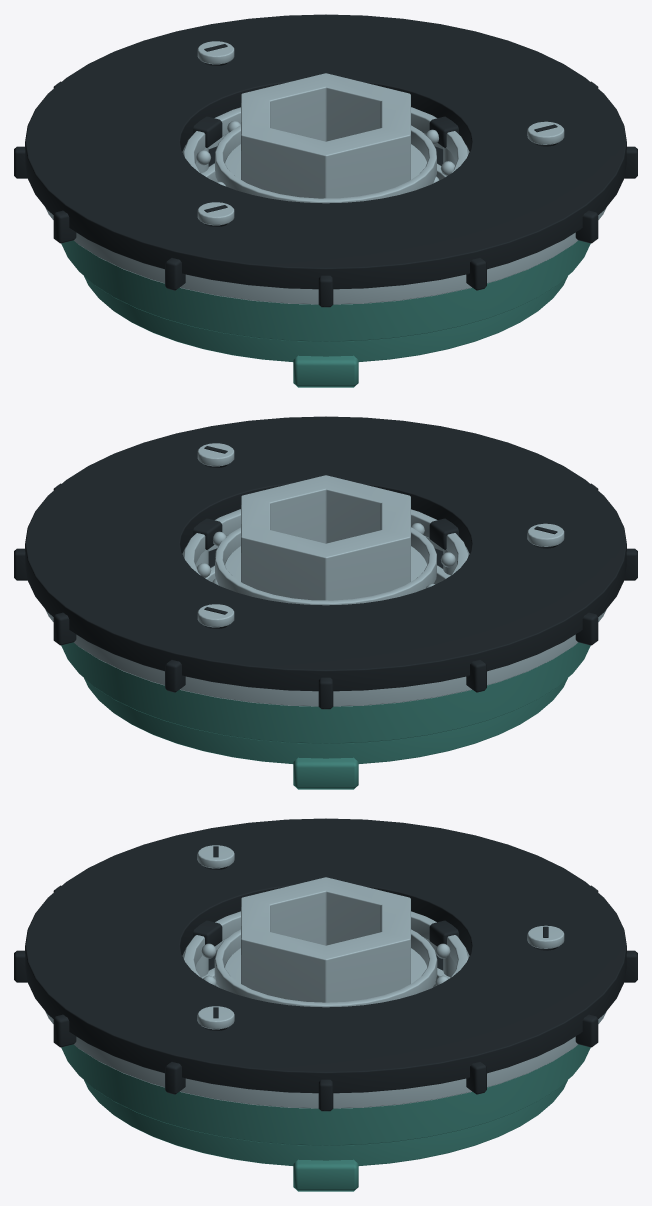
The picture shows the model from 3 angles, top to bottom: view 1: azimuth 30°, elevation 25°; view 2: azimuth 150°, elevation 25°; view 3: azimuth 270°, elevation 25°; orthographic projection.
Parts seen in each view (by area): view 1: Export_C03_stationary_housing__Launcher_Graphite_POM__fixed_, Export_C03_coupler_rotor__Launcher_Brushed_Steel__rotating_s, Export_C03_stationary_housing__Performance_Teal_Anodized__fi, Export_C03_stationary_housing__Launcher_Brushed_Steel__fixed, Export_C03_coupler_rotor__Performance_Teal_Anodized__rotatin, Export_C03_release_jaw_1__Performance_Teal_Anodized__release; view 2: Export_C03_stationary_housing__Launcher_Graphite_POM__fixed_, Export_C03_coupler_rotor__Launcher_Brushed_Steel__rotating_s, Export_C03_stationary_housing__Performance_Teal_Anodized__fi, Export_C03_stationary_housing__Launcher_Brushed_Steel__fixed, Export_C03_coupler_rotor__Performance_Teal_Anodized__rotatin, Export_C03_release_jaw_2__Performance_Teal_Anodized__release; view 3: Export_C03_stationary_housing__Launcher_Graphite_POM__fixed_, Export_C03_coupler_rotor__Launcher_Brushed_Steel__rotating_s, Export_C03_stationary_housing__Performance_Teal_Anodized__fi, Export_C03_stationary_housing__Launcher_Brushed_Steel__fixed, Export_C03_coupler_rotor__Performance_Teal_Anodized__rotatin, Export_C03_release_jaw_0__Performance_Teal_Anodized__release.
Boxes of the visible parts, x1,y1,x2,y2 form: Export_C03_stationary_housing__Launcher_Graphite_POM__fixed_: [14, 14, 637, 307]; Export_C03_coupler_rotor__Launcher_Brushed_Steel__rotating_s: [224, 73, 427, 198]; Export_C03_stationary_housing__Performance_Teal_Anodized__fi: [61, 240, 590, 341]; Export_C03_stationary_housing__Launcher_Brushed_Steel__fixed: [45, 41, 606, 304]; Export_C03_coupler_rotor__Performance_Teal_Anodized__rotatin: [84, 276, 567, 361]; Export_C03_release_jaw_1__Performance_Teal_Anodized__release: [293, 355, 358, 387]; Export_C03_stationary_housing__Launcher_Graphite_POM__fixed_: [14, 416, 637, 709]; Export_C03_coupler_rotor__Launcher_Brushed_Steel__rotating_s: [224, 475, 427, 600]; Export_C03_stationary_housing__Performance_Teal_Anodized__fi: [61, 642, 590, 743]; Export_C03_stationary_housing__Launcher_Brushed_Steel__fixed: [45, 443, 606, 706]; Export_C03_coupler_rotor__Performance_Teal_Anodized__rotatin: [84, 678, 567, 763]; Export_C03_release_jaw_2__Performance_Teal_Anodized__release: [293, 757, 358, 789]; Export_C03_stationary_housing__Launcher_Graphite_POM__fixed_: [14, 818, 637, 1111]; Export_C03_coupler_rotor__Launcher_Brushed_Steel__rotating_s: [224, 877, 427, 1002]; Export_C03_stationary_housing__Performance_Teal_Anodized__fi: [61, 1044, 590, 1145]; Export_C03_stationary_housing__Launcher_Brushed_Steel__fixed: [45, 845, 606, 1108]; Export_C03_coupler_rotor__Performance_Teal_Anodized__rotatin: [84, 1080, 567, 1165]; Export_C03_release_jaw_0__Performance_Teal_Anodized__release: [293, 1159, 358, 1191].
Size of the model in its own units: 0.908 by 0.2675 by 0.908.
